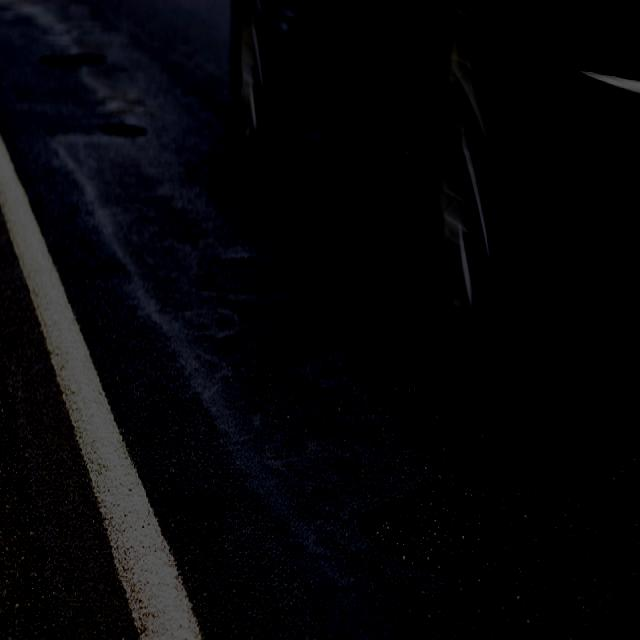Pothole: (349, 442, 554, 640)
